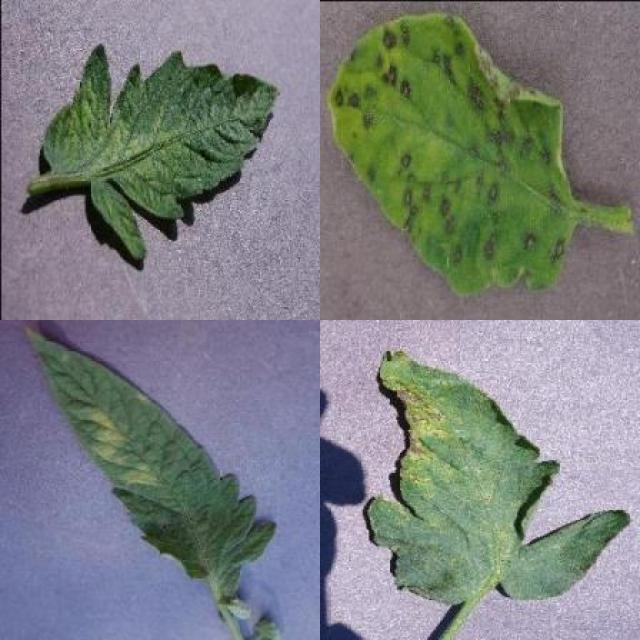Leaf Mold: (26, 325, 278, 598)
Mosaic Virus: (40, 43, 280, 260)
Septoria: (326, 12, 576, 295), (366, 352, 630, 604)
